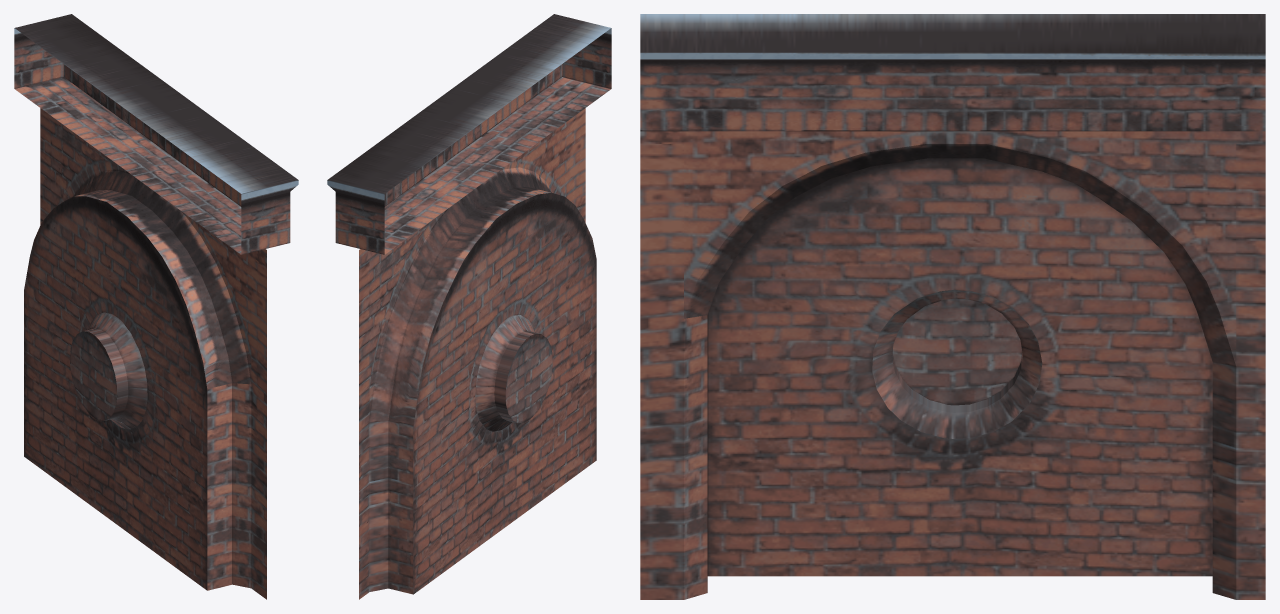
File: straight.glb
3 renders of one model, left to right at view 1: azimuth 30°, elevation 25°; view 2: azimuth 150°, elevation 25°; view 3: azimuth 270°, elevation 25°, orthographic. The views are drawn at different scales.
Parts seen in each view (by area): view 1: Straight; view 2: Straight; view 3: Straight.
Part boxes in pixels (box(x1,y1,x2,y2)): Straight: box(14, 14, 298, 599); Straight: box(327, 14, 611, 599); Straight: box(640, 14, 1265, 599).
Size of the model in its own units: 0.2291 by 1 by 1.
Materials: 1 (1 with a texture image).
